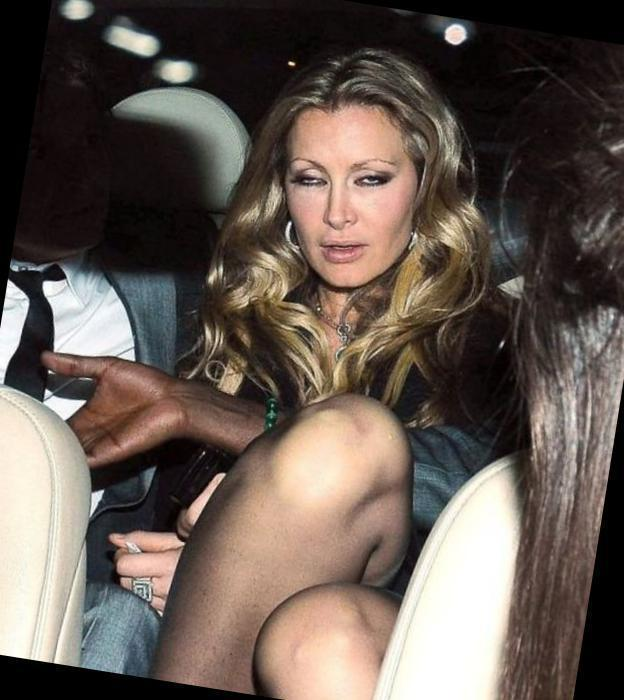Drunk: (286, 116, 413, 277)
